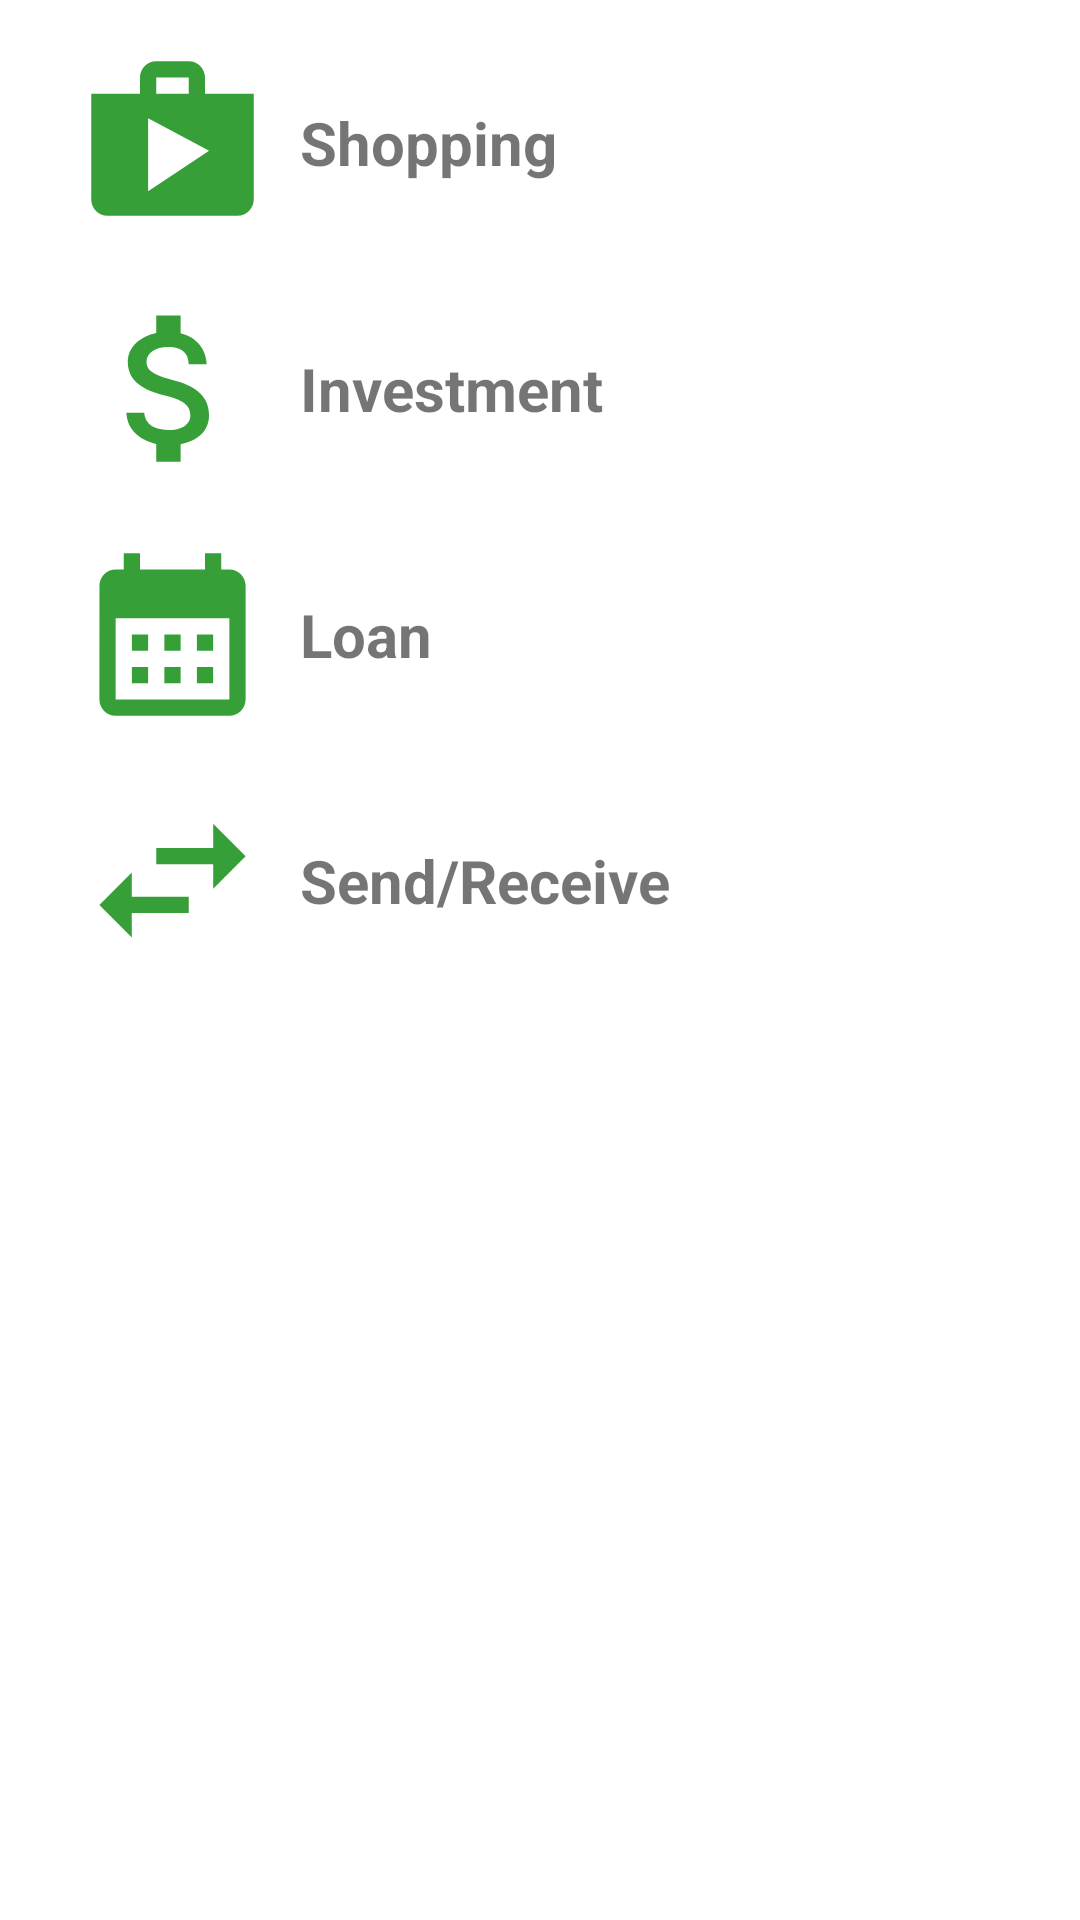

Icon bounding boxes for this 1080 x 1920 phone screenshot, format region(x1, y1, x2, y2):
transaction: region(99, 824, 246, 938)
